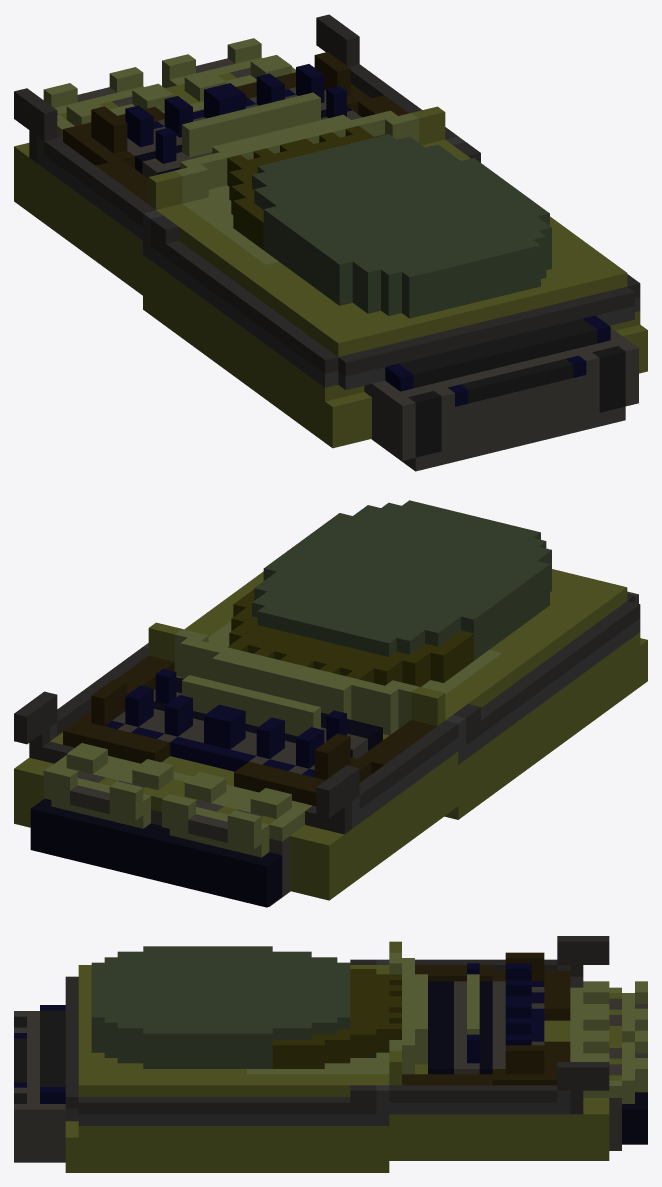
The model's file is firsttank-18.obj.
3 renders of one model, top to bottom at view 1: azimuth 30°, elevation 25°; view 2: azimuth 150°, elevation 25°; view 3: azimuth 270°, elevation 25°, orthographic. The views are drawn at different scales.
Bounding box in the file's own units: 2.4 × 1.1 × 4.9.
1 material, 1 textured.
